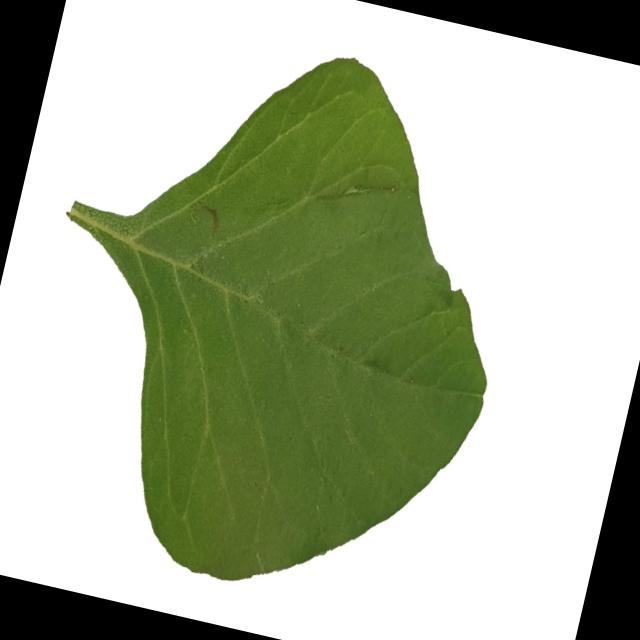Medicinal-Arive Dantu: (0, 1, 553, 626)
